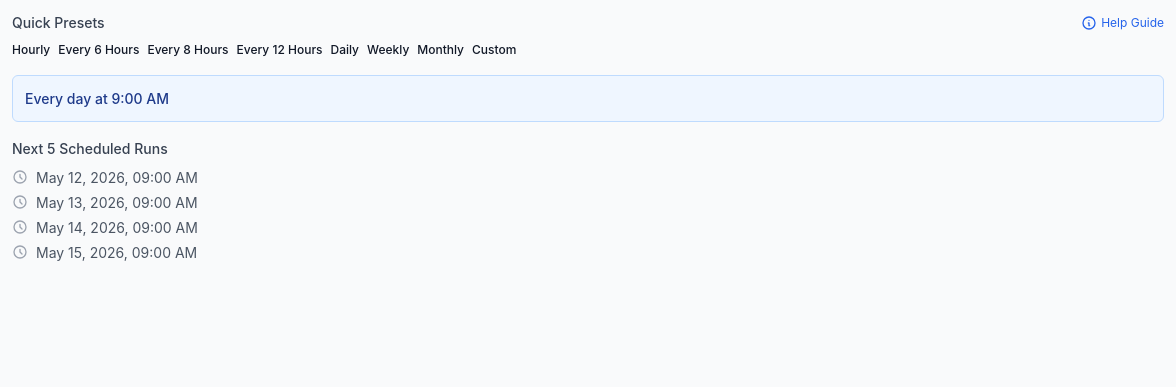
Test: CronBuilder › Custom Expression Input › should show custom input when Custom button is clicked
Click the button "Custom": (494, 50) [472,41,516,59]
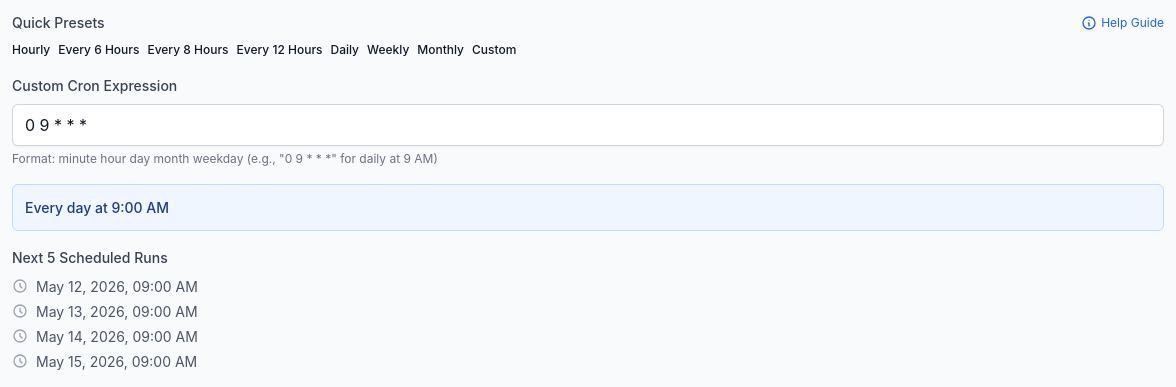
expect the field labelled "Custom Cron Expression" is shown: met, box [12,104,1164,146]
